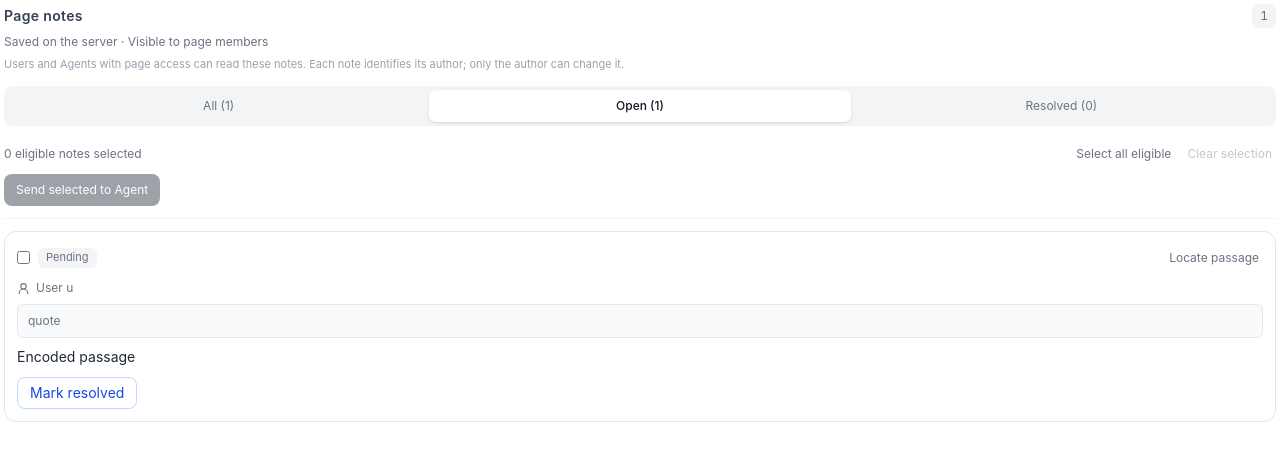
Test: personal notes UI › explains when an anchored passage has no exact visible reading span instead of silently doing nothing
Step 1. Click the button "Locate passage" → (1214, 258), box 1165,244 -> 1263,272
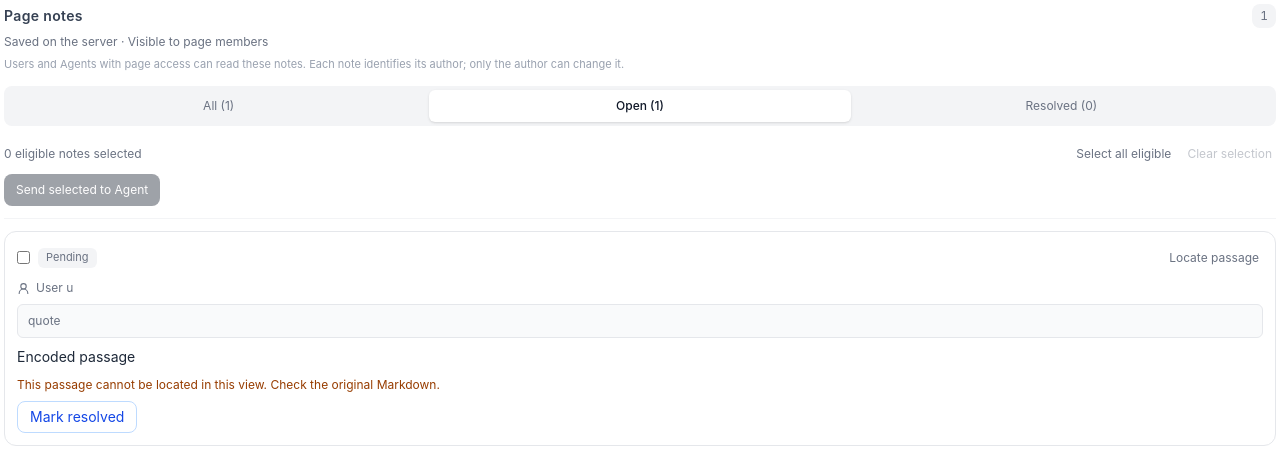
Result: the text "This passage cannot be located in this view. Check the original Markdown." is shown at 17,377 -> 440,392
Step 2. Click the button "Locate passage" → (1214, 258), box 1165,244 -> 1263,272
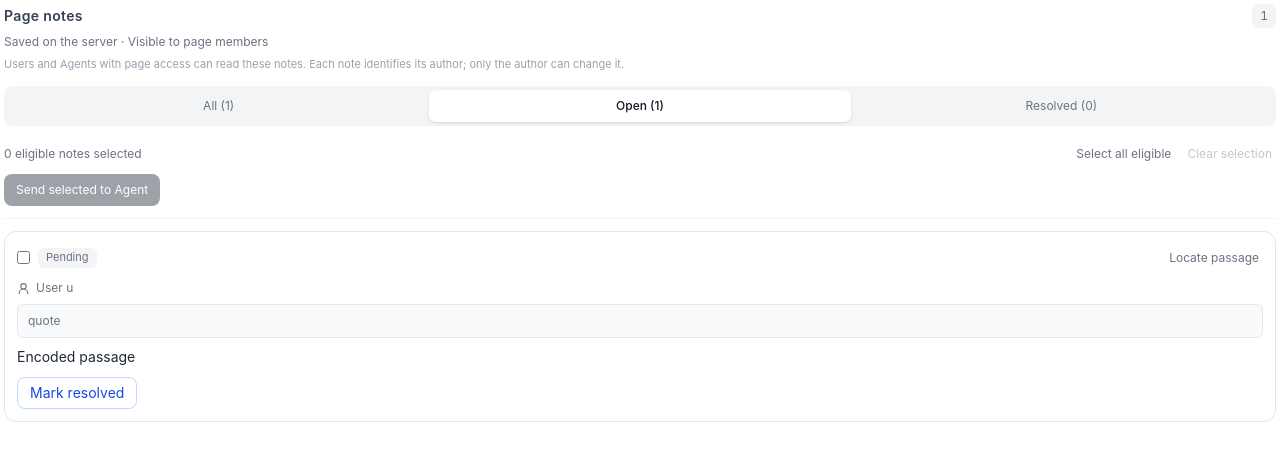
Result: the text "This passage cannot be located in this view. Check the original Markdown." is gone
